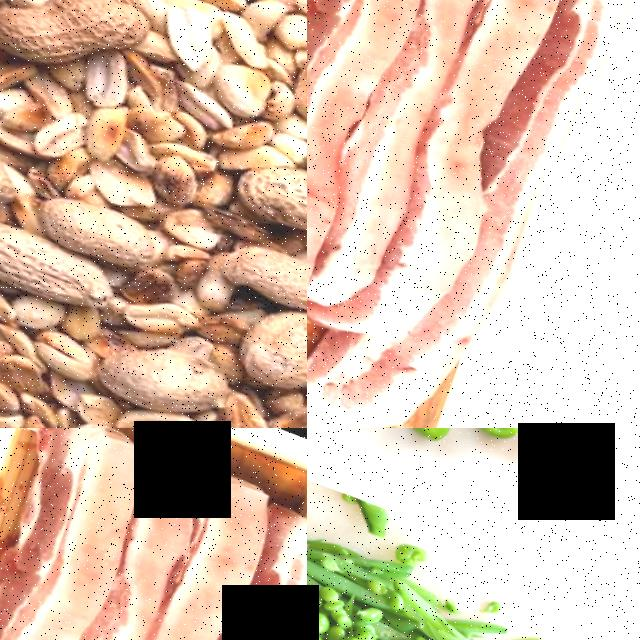peanuts: (0, 0, 151, 97), (0, 205, 121, 323), (29, 185, 167, 282), (215, 218, 307, 358), (225, 141, 307, 255), (228, 295, 307, 410)
peas: (307, 540, 466, 640), (464, 428, 593, 471)
pork belly: (307, 0, 640, 428), (307, 0, 478, 385), (0, 445, 307, 640), (0, 428, 178, 640)
